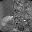people: (1, 16, 13, 26)
